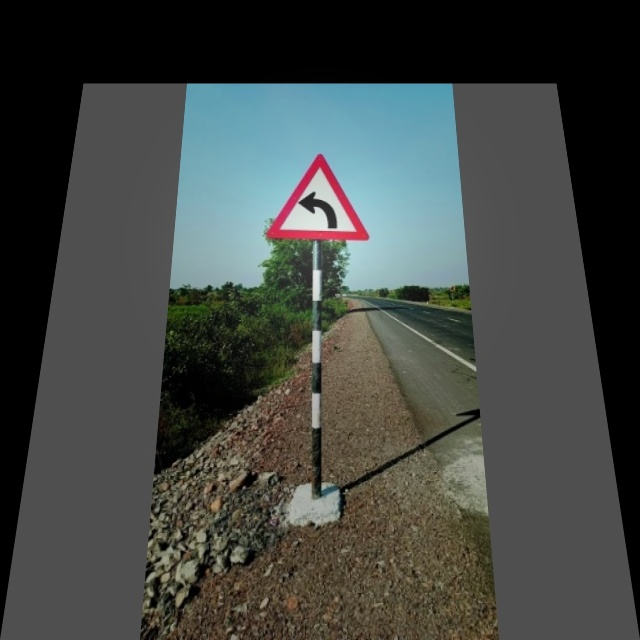Left_Hand_Curve: (271, 151, 366, 245)
